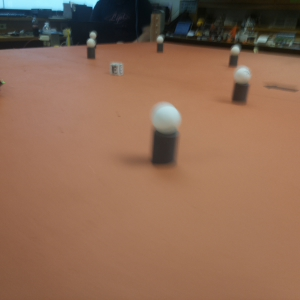obstacle: (150, 103, 182, 168), (233, 67, 250, 104), (86, 38, 96, 60), (229, 46, 239, 67), (156, 36, 164, 53), (89, 32, 96, 41)
